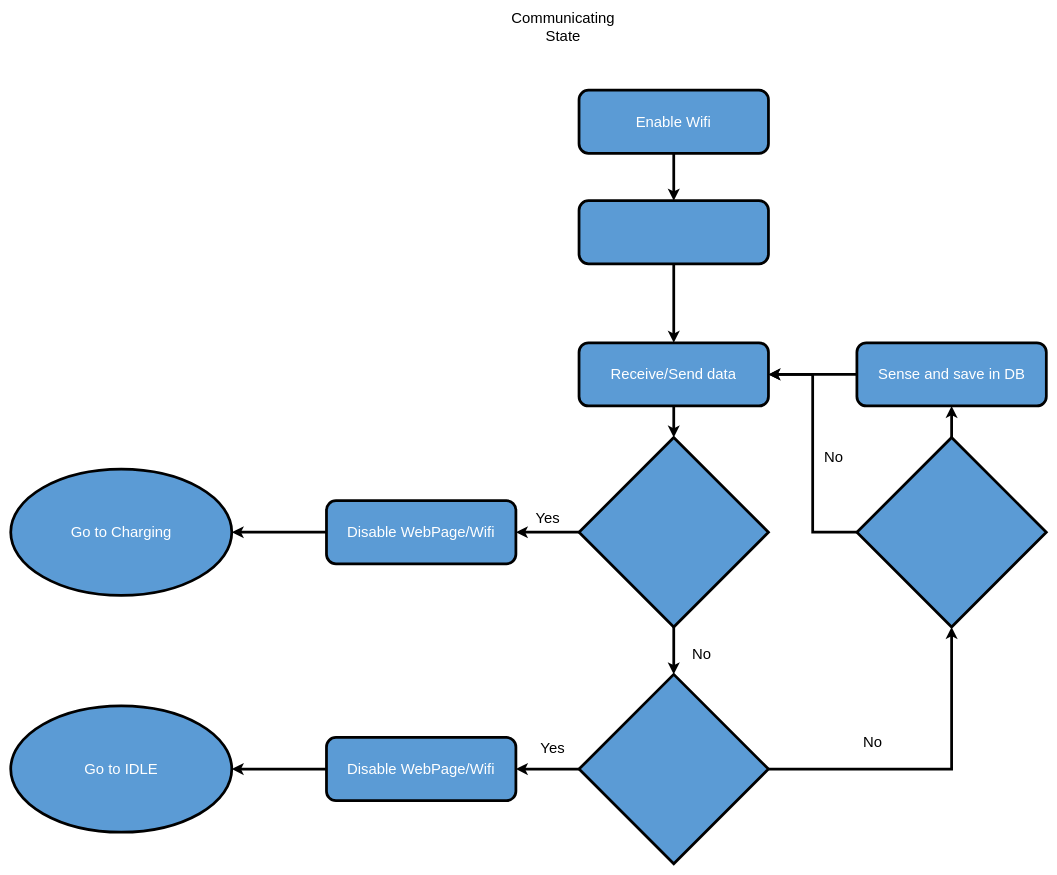
This 1057x875 diagram has some shape labels left out. The centre of each missing label's shape, as x and y in pixels:
Enable WebPage: (x=673, y=232)
is Charging needed?: (x=673, y=532)
Is communiaction Over?: (x=673, y=769)
it's sensing time?: (x=951, y=532)
